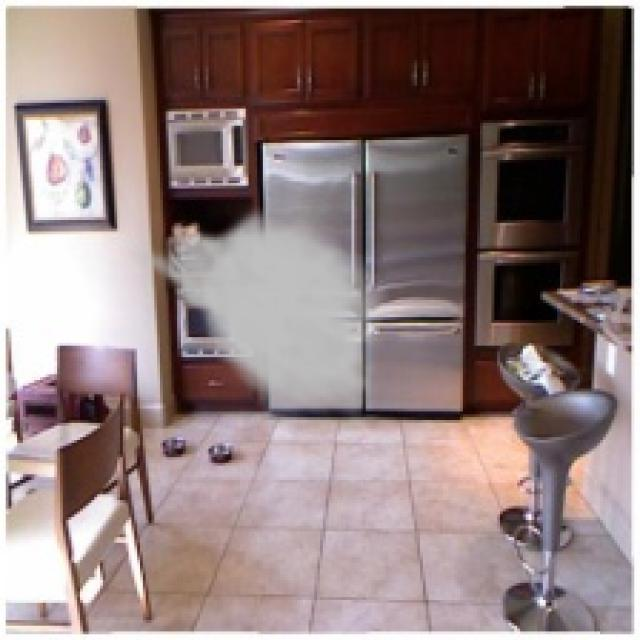Smoke: (120, 202, 389, 428)
